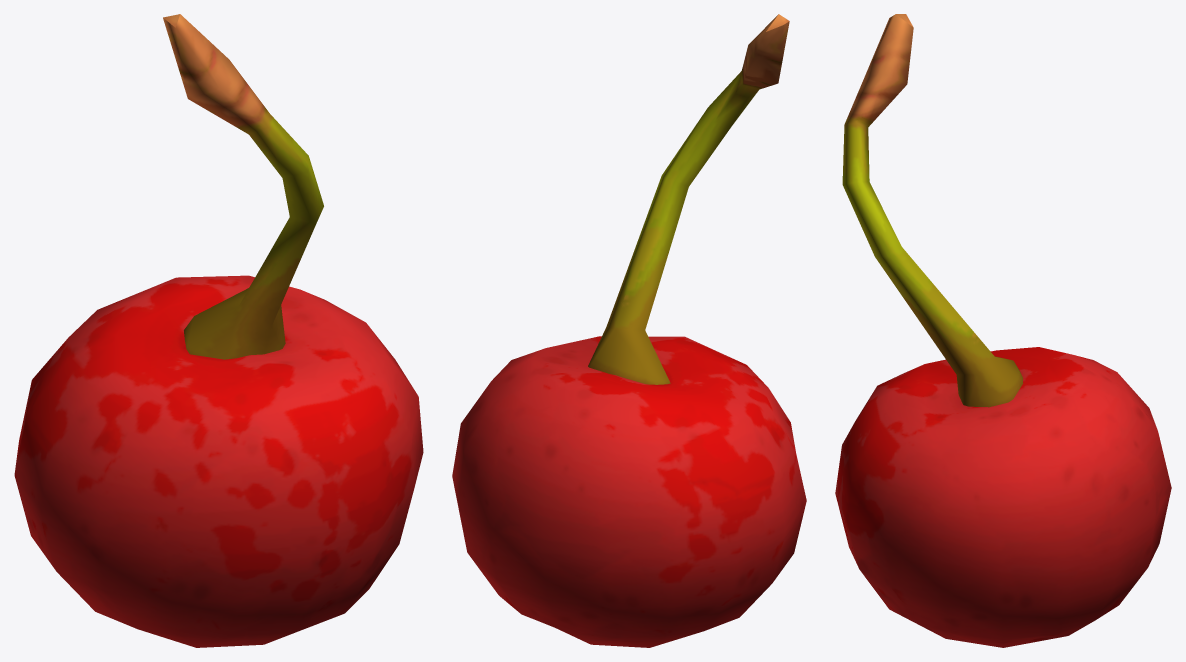
File: SM_CherryB.fbx
The picture shows the model from 3 angles, left to right: view 1: azimuth 30°, elevation 25°; view 2: azimuth 150°, elevation 25°; view 3: azimuth 270°, elevation 25°; orthographic projection. The views are drawn at different scales.
Parts seen in each view (by area): view 1: SM_CherryB; view 2: SM_CherryB; view 3: SM_CherryB.
Boxes of the visible parts, x1,y1,x2,y2 form: SM_CherryB: (14, 14, 423, 647); SM_CherryB: (452, 14, 806, 647); SM_CherryB: (835, 14, 1171, 647).
Bounding box in the file's own units: 4.82 × 8.8 × 4.68.
